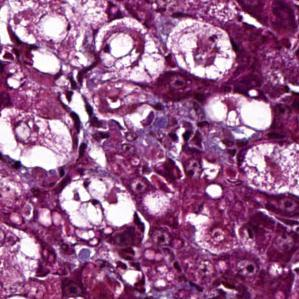ballooning: (91, 15, 164, 85), (58, 173, 139, 233), (165, 17, 237, 81), (201, 90, 275, 143)
